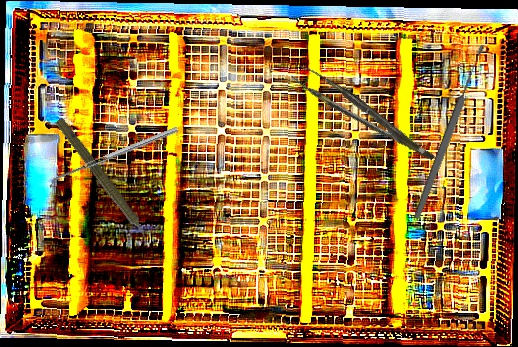Handpiece: (50, 115, 157, 249)
Spatula Surgical: (46, 126, 181, 190)
Surgical Spoon: (411, 42, 488, 222)
Tissue Forceps: (289, 55, 436, 178)
